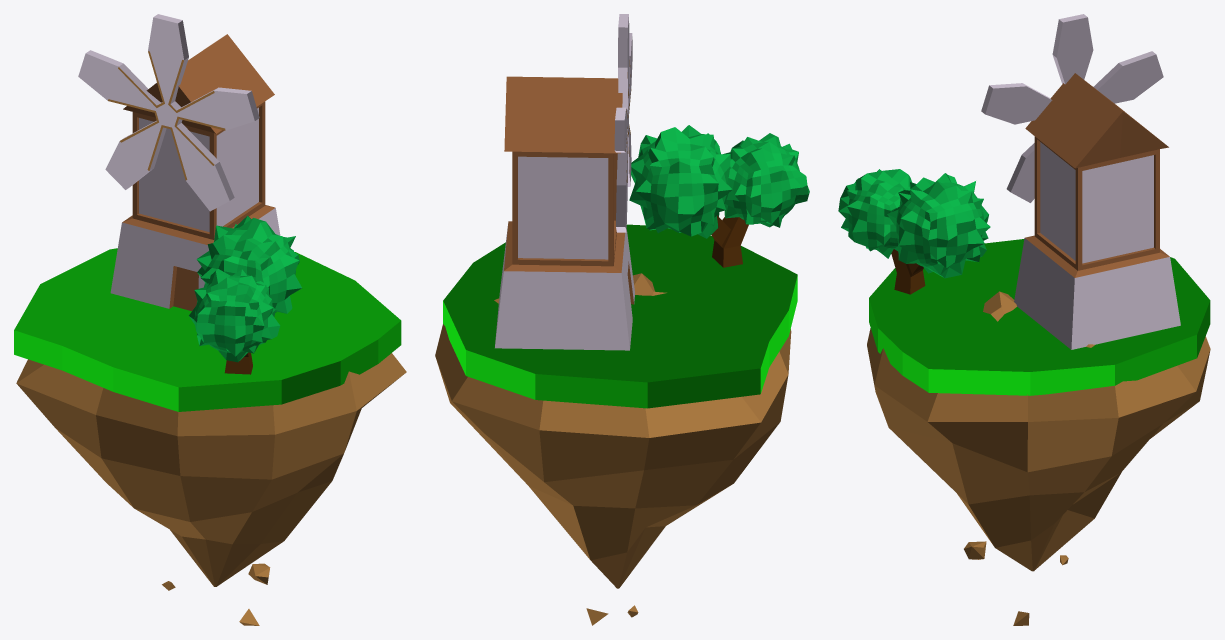
The model's file is SeparatedModel.obj.
3 renders of one model, left to right at view 1: azimuth 30°, elevation 25°; view 2: azimuth 150°, elevation 25°; view 3: azimuth 270°, elevation 25°, orthographic. The views are drawn at different scales.
Visible parts, largest first — view 1: low_poly_mill:Mesh group polySurface3, low_poly_mill:Mesh group polySurface7, low_poly_mill:Mesh group polySurface2, low_poly_mill:Mesh group polySurface1, low_poly_mill:Mesh group polySurface10, low_poly_mill:Mesh group polySurface9; view 2: low_poly_mill:Mesh group polySurface3, low_poly_mill:Mesh group polySurface7, low_poly_mill:Mesh group polySurface2, low_poly_mill:Mesh group polySurface9, low_poly_mill:Mesh group polySurface10, low_poly_mill:Mesh group polySurface1, low_poly_mill:Mesh group polySurface8; view 3: low_poly_mill:Mesh group polySurface3, low_poly_mill:Mesh group polySurface2, low_poly_mill:Mesh group polySurface7, low_poly_mill:Mesh group polySurface9, low_poly_mill:Mesh group polySurface1, low_poly_mill:Mesh group polySurface10, low_poly_mill:Mesh group polySurface8.
Boxes of the visible parts, x1,y1,x2,y2 form: low_poly_mill:Mesh group polySurface3: (16, 353, 406, 586); low_poly_mill:Mesh group polySurface7: (14, 248, 401, 411); low_poly_mill:Mesh group polySurface2: (110, 34, 280, 310); low_poly_mill:Mesh group polySurface1: (78, 14, 259, 211); low_poly_mill:Mesh group polySurface10: (189, 269, 280, 362); low_poly_mill:Mesh group polySurface9: (196, 215, 301, 313); low_poly_mill:Mesh group polySurface3: (435, 273, 791, 588); low_poly_mill:Mesh group polySurface7: (443, 224, 797, 408); low_poly_mill:Mesh group polySurface2: (495, 76, 634, 350); low_poly_mill:Mesh group polySurface9: (629, 125, 732, 238); low_poly_mill:Mesh group polySurface10: (723, 133, 809, 227); low_poly_mill:Mesh group polySurface1: (614, 14, 632, 232); low_poly_mill:Mesh group polySurface8: (711, 215, 748, 267); low_poly_mill:Mesh group polySurface3: (867, 291, 1210, 571); low_poly_mill:Mesh group polySurface2: (1014, 73, 1180, 349); low_poly_mill:Mesh group polySurface7: (869, 239, 1210, 395); low_poly_mill:Mesh group polySurface9: (887, 173, 990, 278); low_poly_mill:Mesh group polySurface1: (981, 14, 1163, 202); low_poly_mill:Mesh group polySurface10: (838, 169, 911, 258); low_poly_mill:Mesh group polySurface8: (891, 249, 925, 294).
Bounding box in the file's own units: 33.82 × 62.44 × 36.16.
